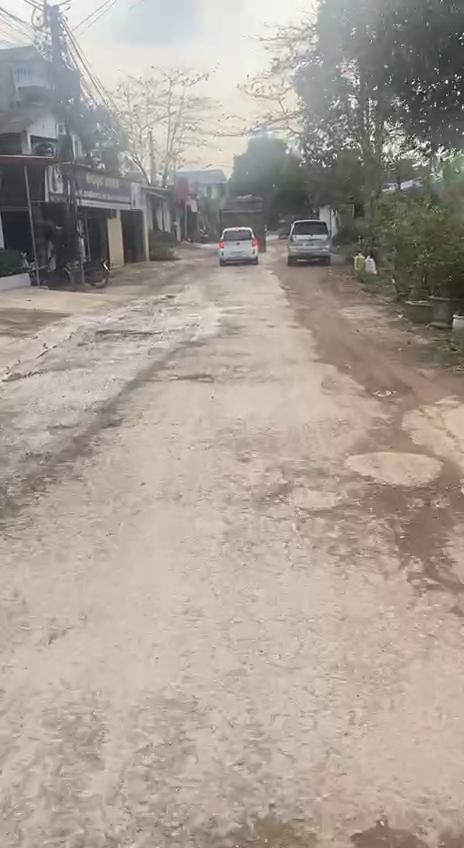pothole: (382, 499, 456, 578)
